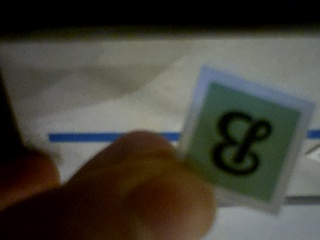B: (179, 81, 301, 206)
